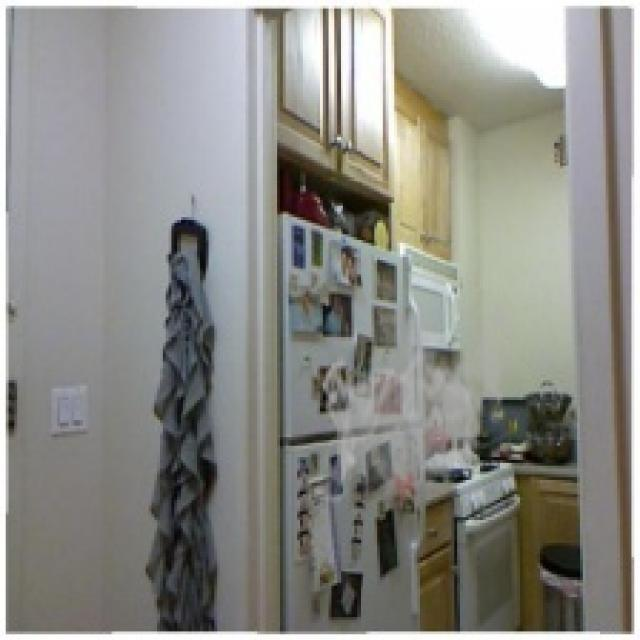Smoke: (317, 272, 517, 512)
